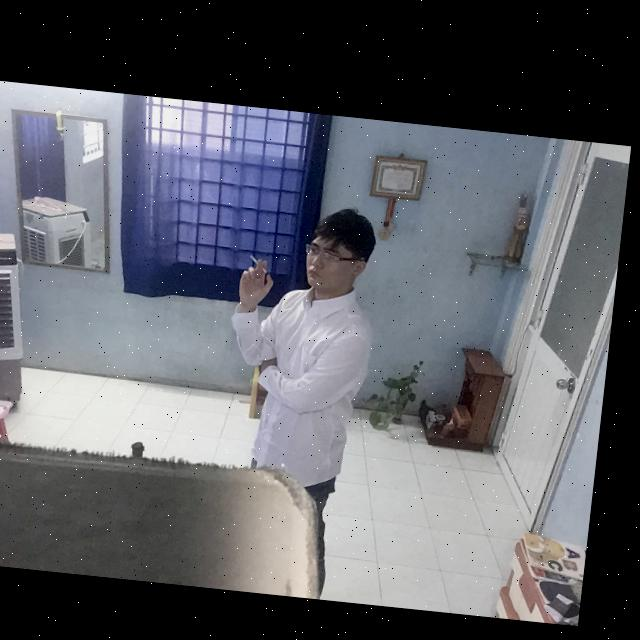cigarette: (253, 249, 274, 267)
